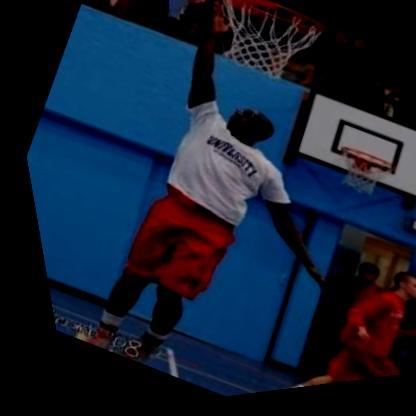basketball: (194, 0, 268, 15)
